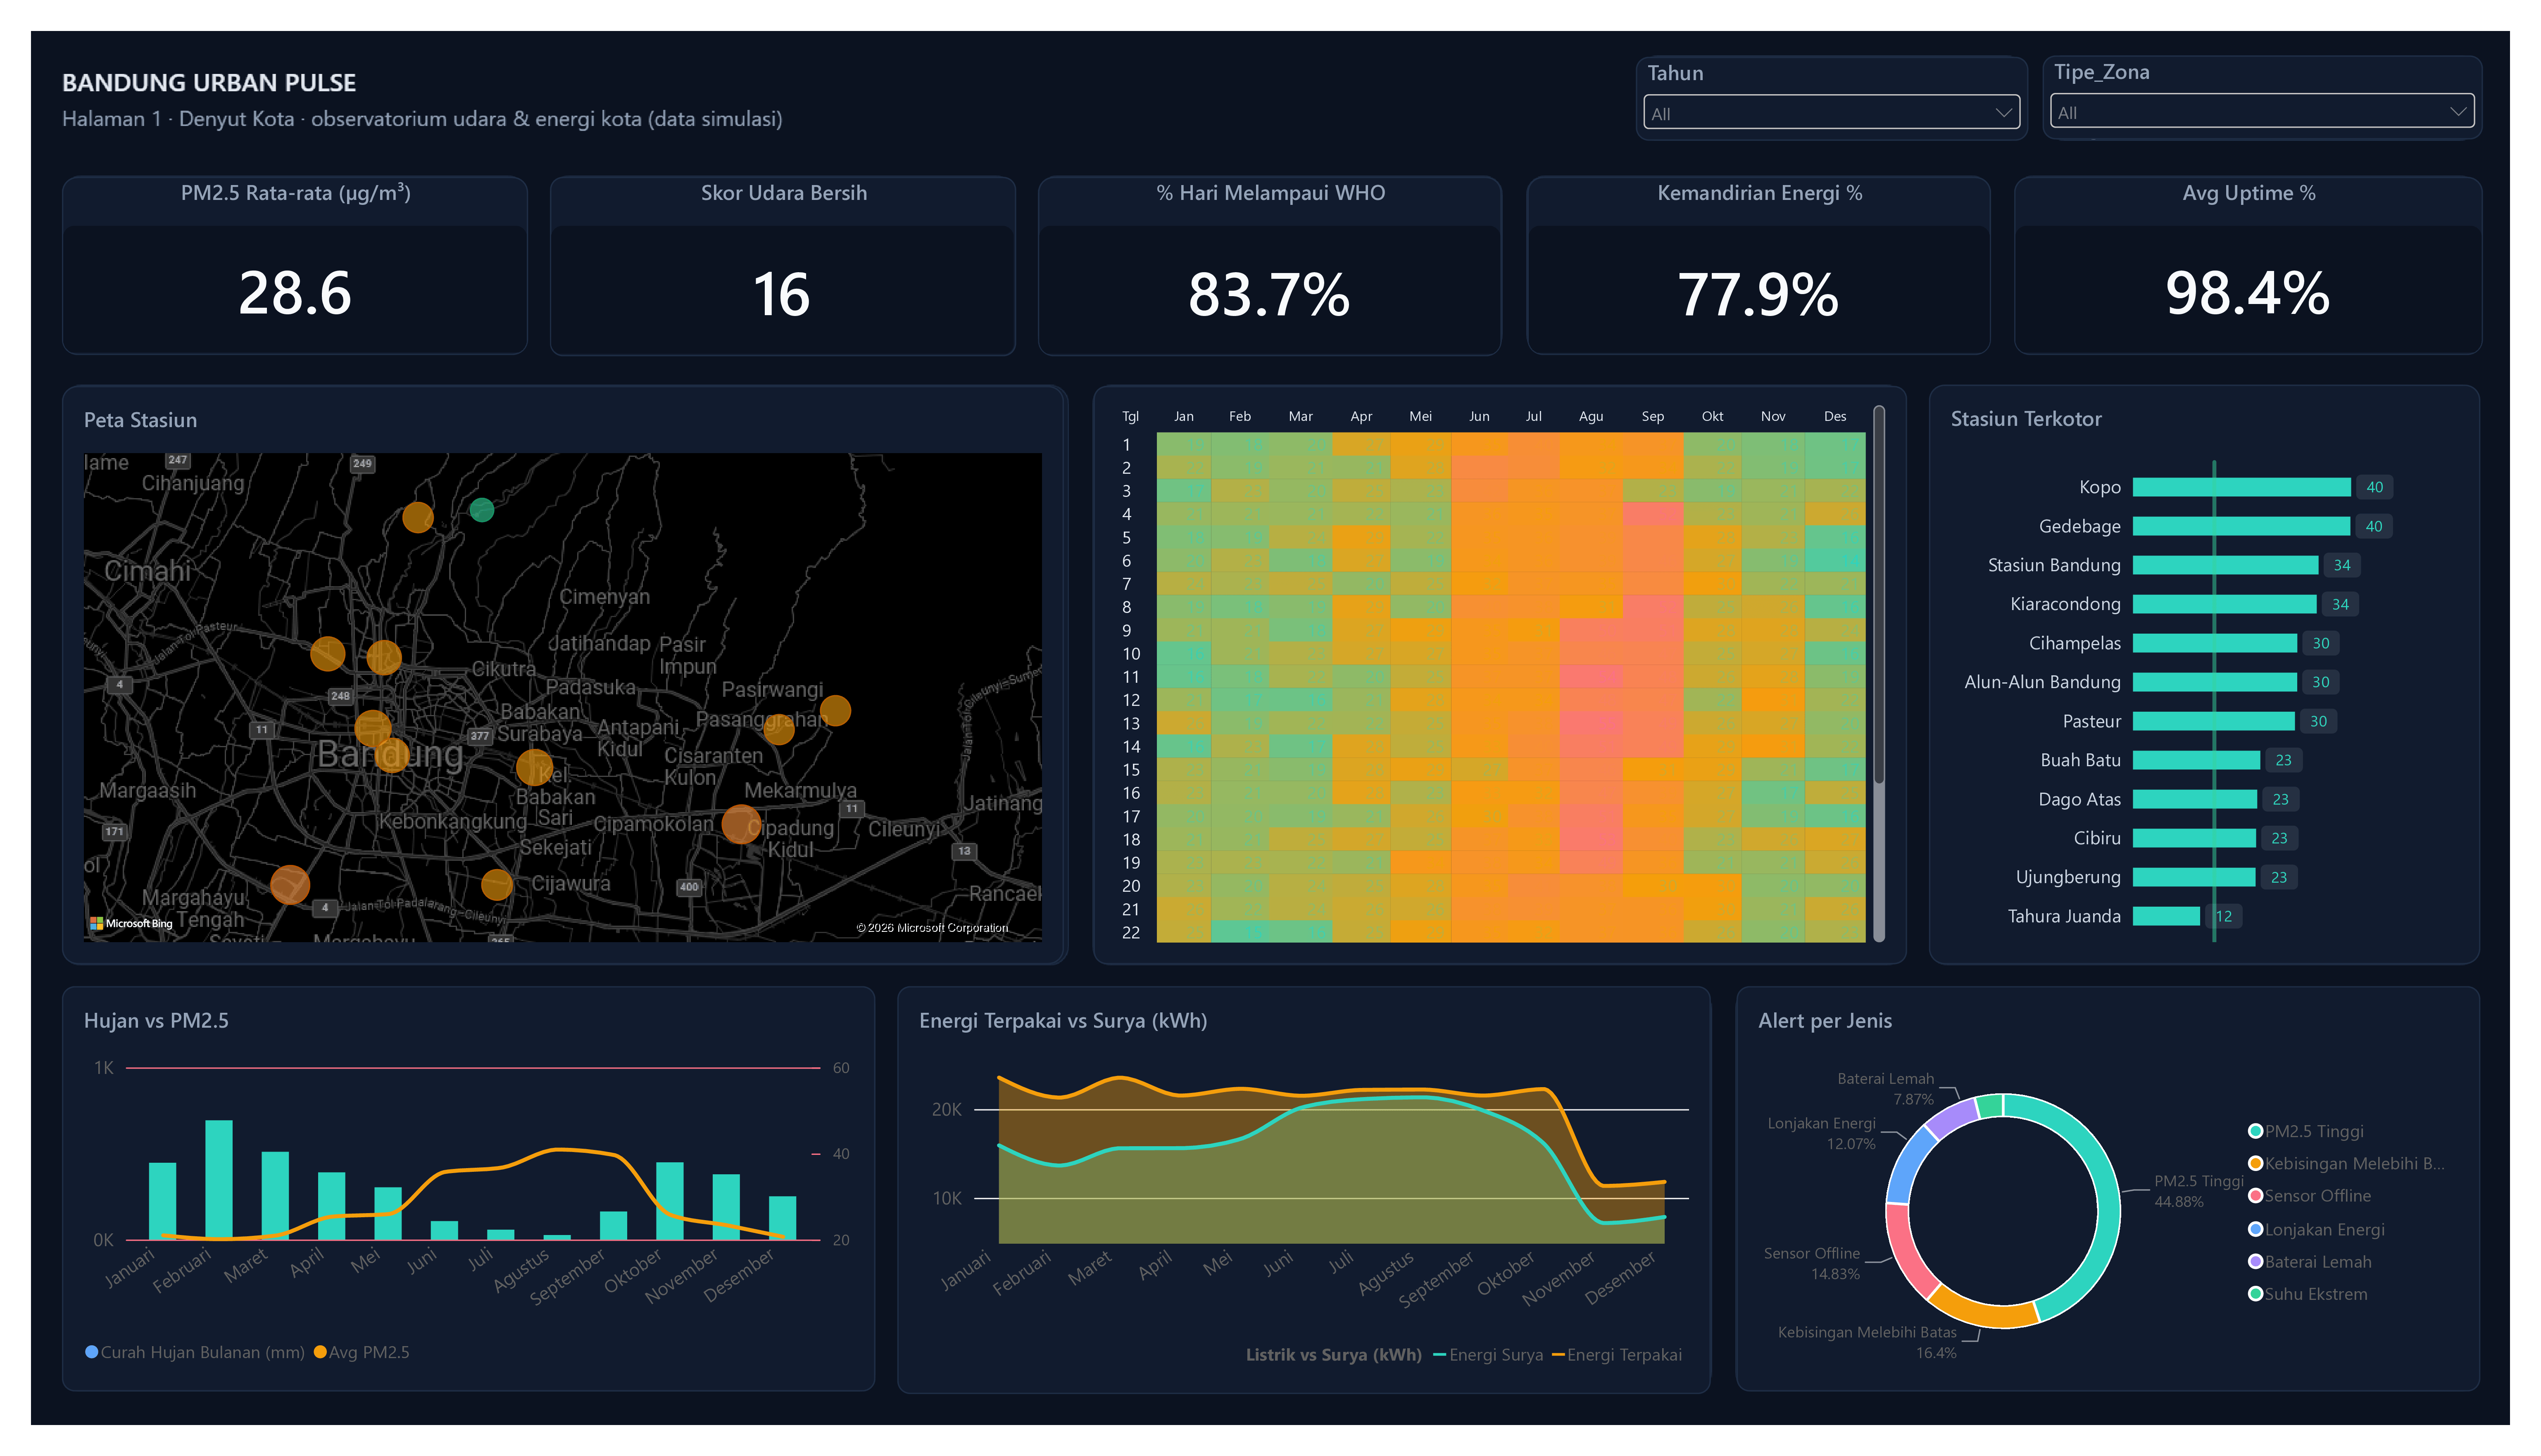

The dashboard page shown, as its layout file describes it:
{"tool":"powerbi","page":{"name":"Page 1 | Denyut Kota","canvas":[1920,1080],"ordinal":0},"visuals":[{"type":"cardVisual","title":"PM2.5 Rata-rata (µg/m³)","fields":{"Data":["_Measure.Avg PM2.5"]},"box":[24.2,113.2,361.1,137.9],"z":0},{"type":"cardVisual","title":"Skor Udara Bersih","fields":{"Data":["_Measure.Skor Udara Bersih"]},"box":[402,113.3,360.7,138.7],"z":1000},{"type":"cardVisual","title":"% Hari Melampaui WHO\t","fields":{"Data":["_Measure.% Hari Melampaui WHO"]},"box":[780,112.5,359.2,139.2],"z":2000},{"type":"cardVisual","title":"Avg Uptime %","fields":{"Data":["_Measure.Avg Uptime %"]},"box":[1535.6,113.3,363.3,137.8],"z":3000},{"type":"cardVisual","title":"Kemandirian Energi %\t","fields":{"Data":["_Measure.Kemandirian Energi %"]},"box":[1158.6,112.9,359.5,138.4],"z":4000},{"type":"slicer","fields":{"Values":["Dim_Tanggal.Tahun"]},"box":[1243.3,20,303.3,65],"z":5000},{"type":"slicer","fields":{"Values":["Dim_Stasiun.Tipe_Zona"]},"box":[1557.8,18.9,341.1,65.6],"z":6000},{"type":"clusteredBarChart","title":"Stasiun Terkotor","fields":{"Category":["Dim_Stasiun.Nama_Stasiun"],"Y":["_Measure.Avg PM2.5"]},"box":[1470,274.3,427.1,448.6],"z":7000},{"type":"pivotTable","fields":{"Columns":["Dim_Tanggal.Bulan Singkat"],"Rows":["Dim_Tanggal.Hari Bulan"],"Values":["_Measure.Avg PM2.5"]},"box":[823.3,275,630,448.3],"z":8000},{"type":"map","title":"Peta Stasiun","fields":{"Size":["_Measure.Avg PM2.5"],"X":["Dim_Stasiun.Longitude"],"Y":["Dim_Stasiun.Latitude"]},"box":[23.8,275,776.7,448.3],"z":9000},{"type":"donutChart","title":"Alert per Jenis","fields":{"Category":["Fact_Alert.Jenis_Alert"],"Y":["_Measure.Total Alert"]},"box":[1321.4,740,575.7,314.3],"z":10000},{"type":"areaChart","title":"Energi Terpakai vs Surya (kWh)","fields":{"Category":["Dim_Tanggal.Bulan"],"Y":["_Measure.Energi Surya","_Measure.Energi Terpakai"]},"box":[671.4,740,630,315.7],"z":11000},{"type":"lineClusteredColumnComboChart","title":"Hujan vs PM2.5","fields":{"Category":["Dim_Tanggal.Bulan"],"Y":["_Measure.Curah Hujan Bulanan (mm)"],"Y2":["_Measure.Avg PM2.5"]},"box":[24,740,630,314],"z":12000}]}

Visuals, with their boxes on the page's 1920x1080 design canvas (x1, y1, x2, y2). These are canvas units, not pixel positions in the 2541x1456 screenshot, which may show the page scaled, cropped or inside an application window:
"PM2.5 Rata-rata (µg/m³)" cardVisual: [left=24, top=113, right=385, bottom=251]
"Skor Udara Bersih" cardVisual: [left=402, top=113, right=763, bottom=252]
"% Hari Melampaui WHO	" cardVisual: [left=780, top=112, right=1139, bottom=252]
"Avg Uptime %" cardVisual: [left=1536, top=113, right=1899, bottom=251]
"Kemandirian Energi %	" cardVisual: [left=1159, top=113, right=1518, bottom=251]
slicer - Dim_Tanggal.Tahun: [left=1243, top=20, right=1547, bottom=85]
slicer - Dim_Stasiun.Tipe_Zona: [left=1558, top=19, right=1899, bottom=84]
"Stasiun Terkotor" clusteredBarChart: [left=1470, top=274, right=1897, bottom=723]
pivotTable - Dim_Tanggal.Bulan Singkat x Dim_Tanggal.Hari Bulan: [left=823, top=275, right=1453, bottom=723]
"Peta Stasiun" map: [left=24, top=275, right=800, bottom=723]
"Alert per Jenis" donutChart: [left=1321, top=740, right=1897, bottom=1054]
"Energi Terpakai vs Surya (kWh)" areaChart: [left=671, top=740, right=1301, bottom=1056]
"Hujan vs PM2.5" lineClusteredColumnComboChart: [left=24, top=740, right=654, bottom=1054]
